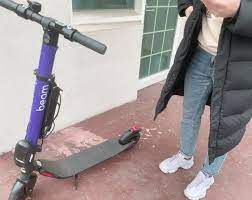scooter: (1, 1, 143, 200)
